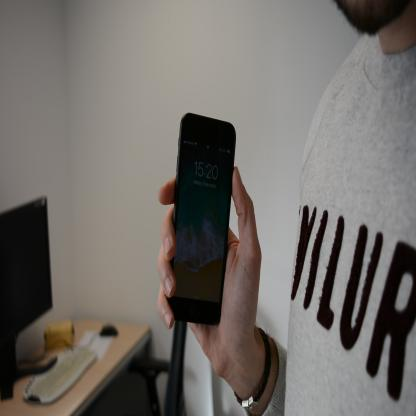smartphone: (164, 111, 236, 327)
